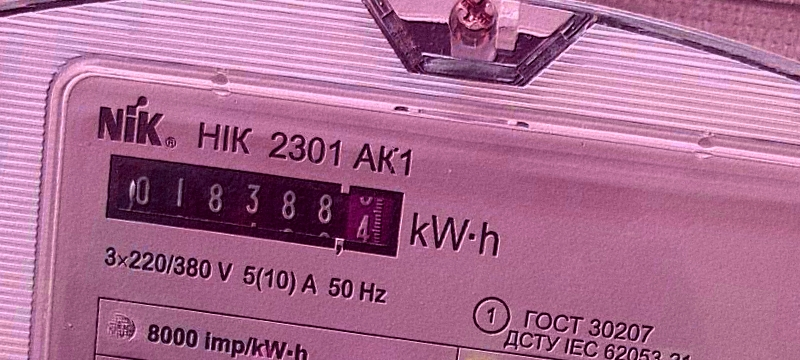0: (130, 171, 155, 210)
1: (168, 172, 192, 211)
3: (241, 181, 266, 218)
4: (351, 210, 376, 245)
8: (203, 178, 229, 217), (313, 190, 339, 228), (277, 187, 302, 225)
screen: (92, 138, 420, 275)
